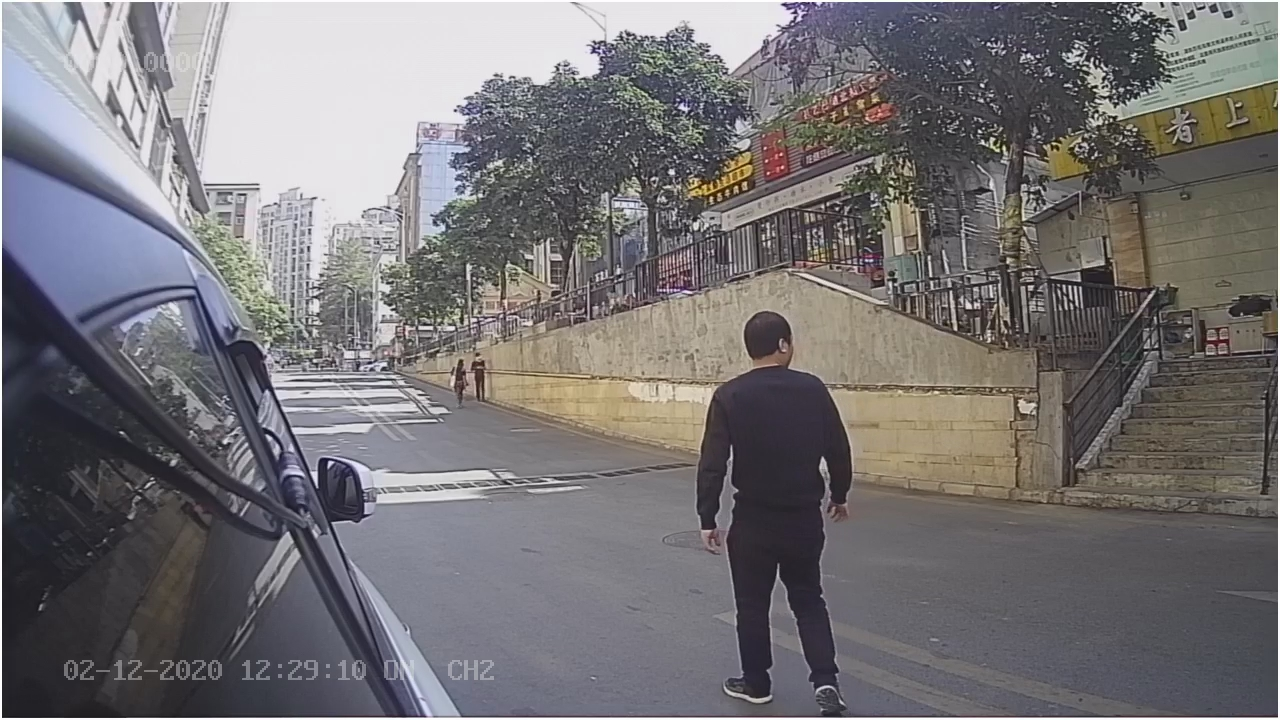person: (688, 299, 884, 712)
